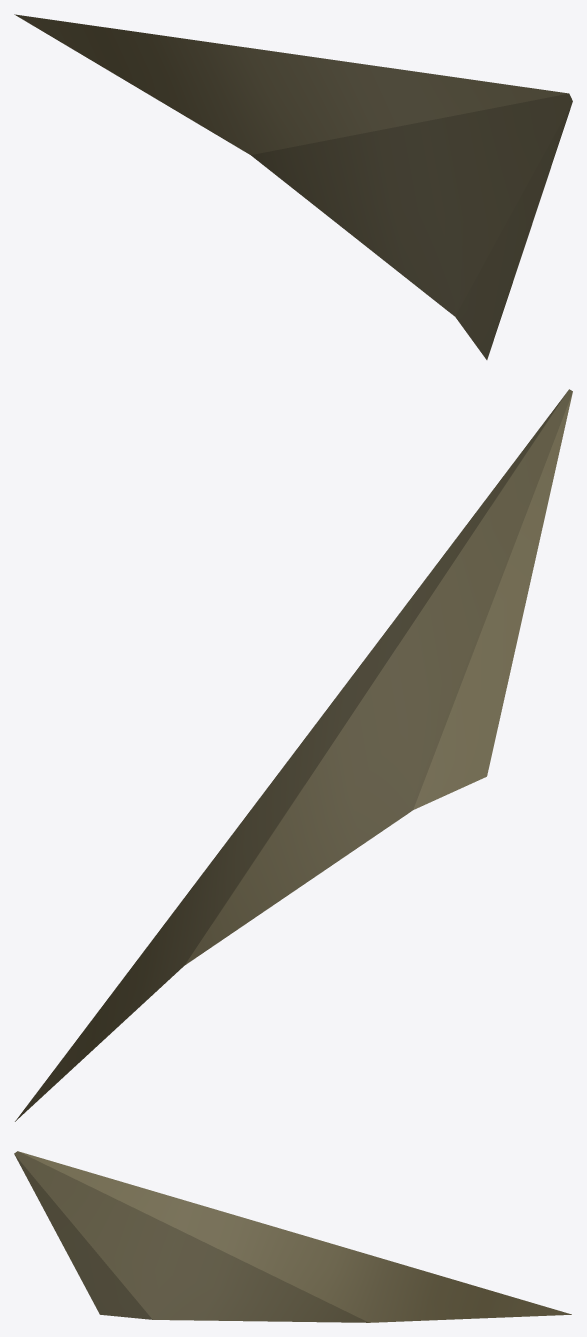
3 renders of one model, top to bottom at view 1: azimuth 30°, elevation 25°; view 2: azimuth 150°, elevation 25°; view 3: azimuth 270°, elevation 25°, orthographic. The views are drawn at different scales.
Bounding box in the file's own units: 0.00417 × 0.0393 × 0.1216.
Materials: 1 (1 with a texture image).
